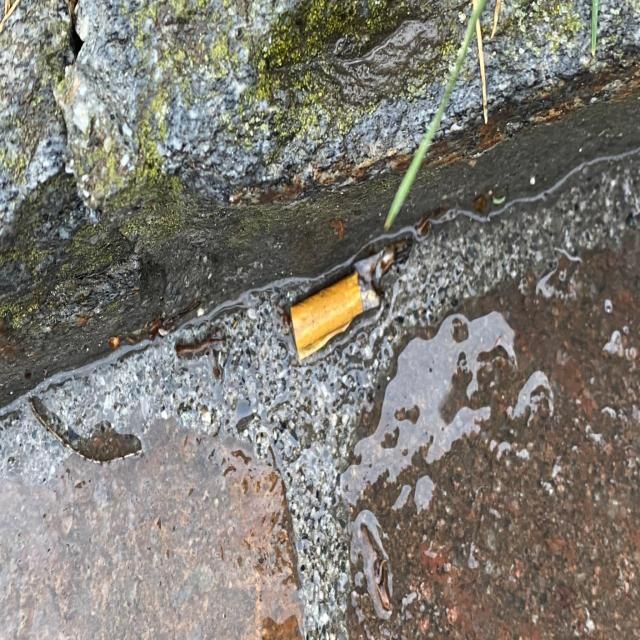other waste: (288, 237, 414, 360)
